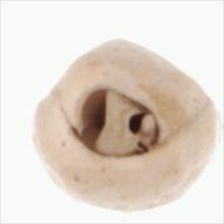L3: (63, 87, 171, 157)
L4: (33, 40, 218, 213)
